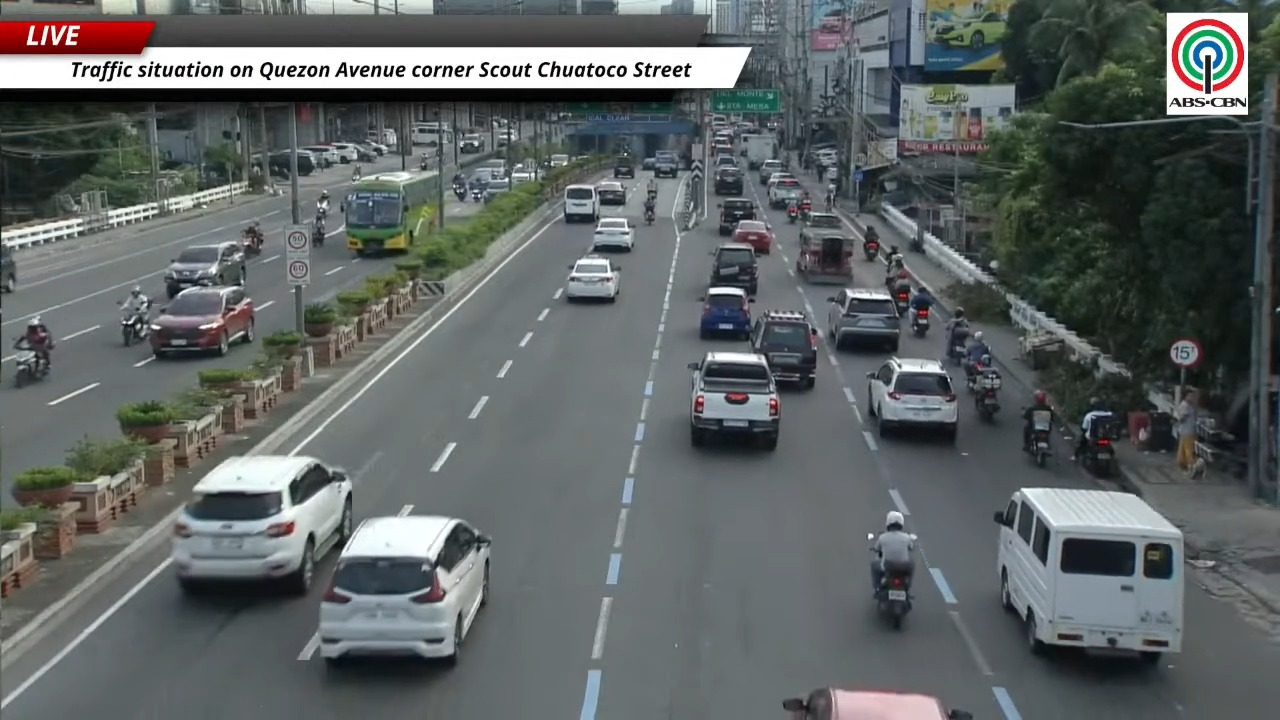bus: (341, 171, 440, 256), (411, 123, 454, 146)
car: (317, 515, 491, 666), (171, 455, 352, 594), (867, 357, 958, 441), (149, 286, 254, 358), (782, 687, 974, 719), (750, 310, 817, 388), (164, 241, 246, 298), (827, 288, 900, 351), (699, 286, 753, 338), (931, 12, 1006, 49), (708, 242, 758, 295), (565, 255, 619, 302), (718, 197, 756, 235), (592, 217, 634, 251), (732, 220, 773, 254), (563, 184, 598, 222), (801, 211, 842, 243), (769, 178, 802, 208), (713, 168, 744, 196), (302, 145, 339, 167), (0, 244, 16, 292), (484, 178, 512, 203), (596, 181, 625, 205), (654, 151, 679, 177), (765, 171, 797, 191), (328, 142, 358, 163), (267, 151, 291, 177), (759, 160, 783, 185), (477, 158, 508, 176), (351, 142, 380, 161), (613, 155, 635, 178), (512, 162, 537, 182), (459, 133, 484, 153), (359, 138, 388, 155), (495, 129, 518, 148), (713, 154, 737, 169), (713, 143, 732, 157), (550, 154, 570, 167), (642, 157, 655, 170)
motorcycle: (1077, 418, 1117, 477), (874, 568, 911, 629), (967, 357, 1001, 421), (1024, 410, 1052, 467), (14, 339, 47, 387), (120, 309, 149, 346), (947, 327, 969, 366), (241, 228, 262, 256), (911, 308, 929, 337), (311, 218, 326, 247), (894, 289, 909, 315), (863, 239, 879, 260), (787, 203, 799, 224), (799, 201, 811, 221), (452, 184, 466, 201), (470, 187, 484, 202), (316, 201, 328, 218), (644, 208, 654, 224), (352, 165, 361, 181), (419, 158, 429, 170)
truck: (688, 351, 780, 450), (741, 134, 776, 169)
